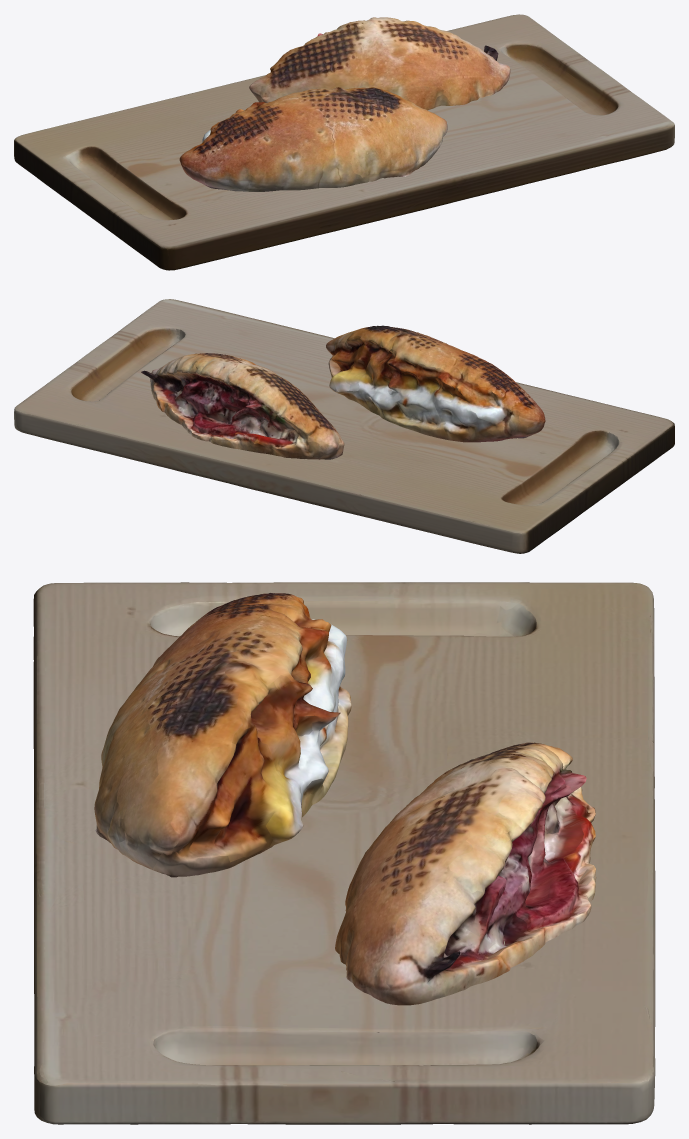
Rendered from alo.yerevan.mixed.shawerma.cons.glb.
3 views of the same model, one above another, from view 1: azimuth 30°, elevation 25°; view 2: azimuth 150°, elevation 25°; view 3: azimuth 270°, elevation 25° (orthographic). The views are drawn at different scales.
Parts seen in each view (by area): view 1: /Root/Scenes/Scene/Object_41/Object_43/Object_44/Submesh_0, /Root/Scenes/Scene/Object_41/Object_42/Submesh_0; view 2: /Root/Scenes/Scene/Object_41/Object_43/Object_44/Submesh_0, /Root/Scenes/Scene/Object_41/Object_42/Submesh_0; view 3: /Root/Scenes/Scene/Object_41/Object_43/Object_44/Submesh_0, /Root/Scenes/Scene/Object_41/Object_42/Submesh_0.
Part boxes in pixels (box(x1,y1,x2,y2)): /Root/Scenes/Scene/Object_41/Object_43/Object_44/Submesh_0: box(14, 14, 674, 270); /Root/Scenes/Scene/Object_41/Object_42/Submesh_0: box(179, 17, 510, 191); /Root/Scenes/Scene/Object_41/Object_43/Object_44/Submesh_0: box(14, 299, 674, 553); /Root/Scenes/Scene/Object_41/Object_42/Submesh_0: box(141, 325, 545, 459); /Root/Scenes/Scene/Object_41/Object_43/Object_44/Submesh_0: box(33, 582, 655, 1124); /Root/Scenes/Scene/Object_41/Object_42/Submesh_0: box(94, 593, 596, 1005).
Bounding box in the file's own units: 0.4089 × 0.07 × 0.214.
2 materials, 2 textured.
